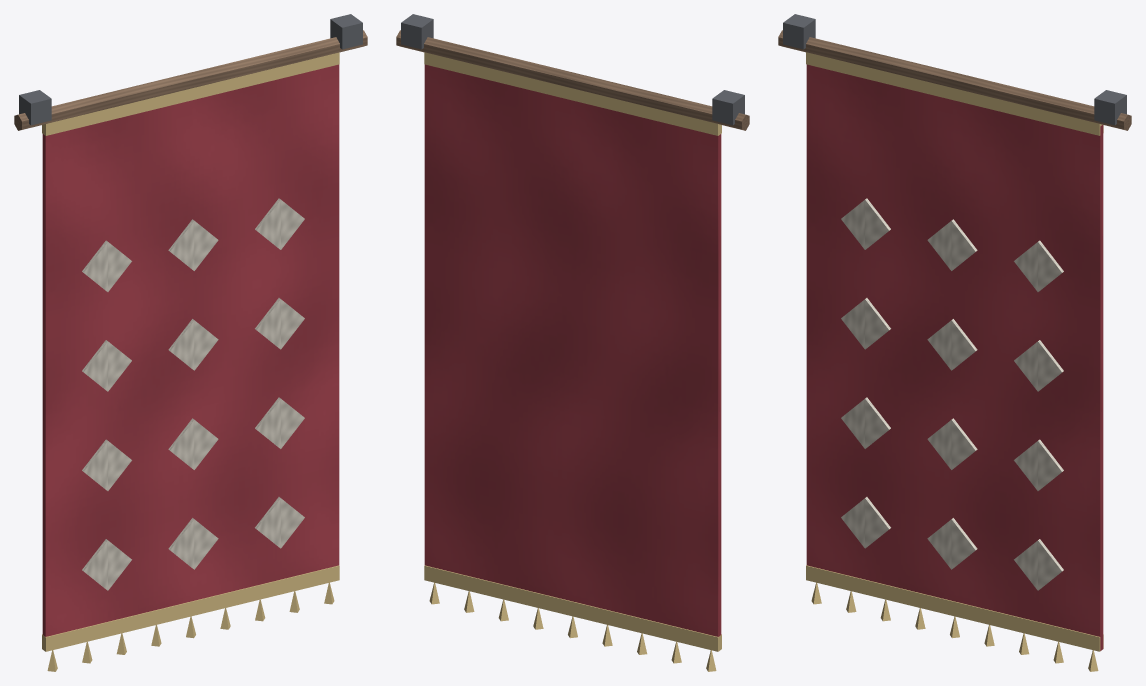
3 views of the same model, side by side, from view 1: azimuth 30°, elevation 25°; view 2: azimuth 150°, elevation 25°; view 3: azimuth 330°, elevation 25° (orthographic).
Parts seen in each view (by area): view 1: tapestry; view 2: tapestry; view 3: tapestry.
Boxes of the visible parts, left/top/right/bottom form: tapestry: left=14, top=14, right=367, bottom=671; tapestry: left=396, top=14, right=749, bottom=671; tapestry: left=778, top=14, right=1131, bottom=671.
Size of the model in its own units: 2 by 3.19 by 0.12.
5 materials, 3 textured.
